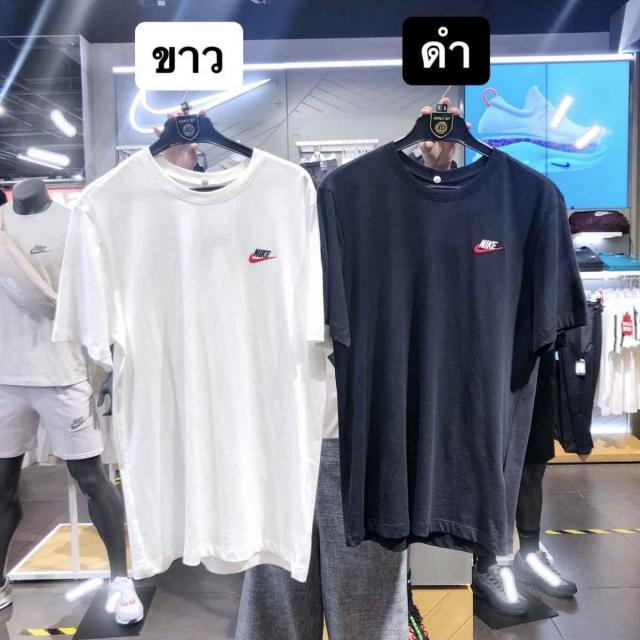Tshirt: (55, 152, 323, 585), (328, 150, 565, 557)
